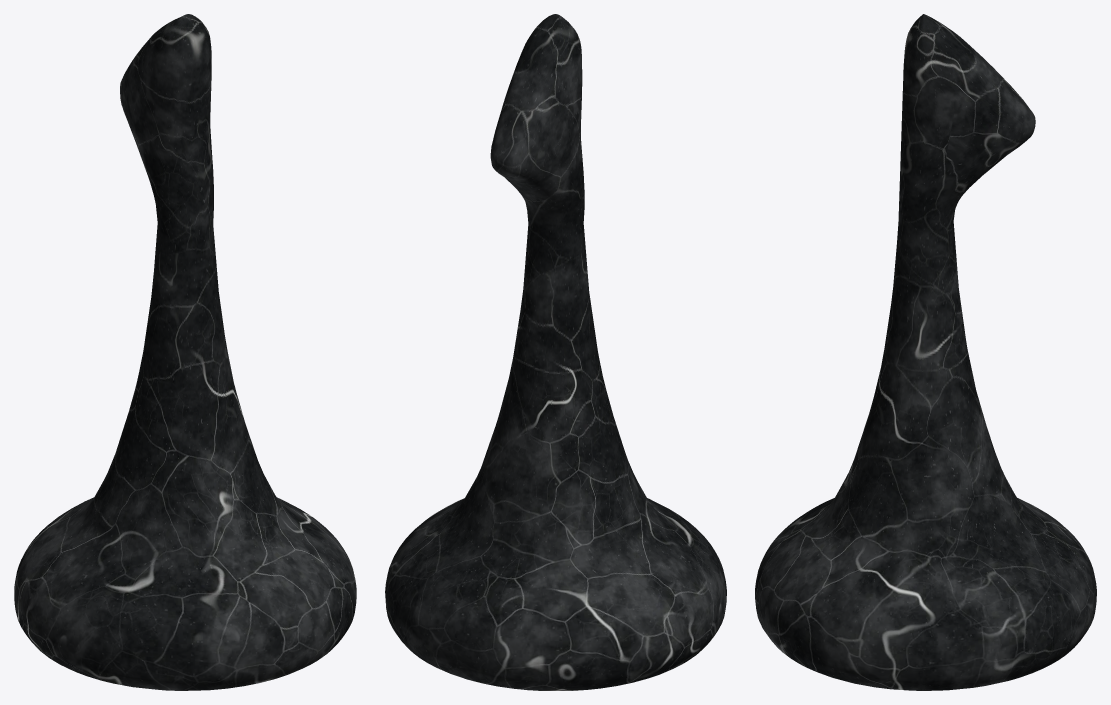
Rendered from knight-black.glb.
3 renders of one model, left to right at view 1: azimuth 30°, elevation 25°; view 2: azimuth 150°, elevation 25°; view 3: azimuth 270°, elevation 25°, orthographic.
Parts seen in each view (by area): view 1: Serpentina_knight_black; view 2: Serpentina_knight_black; view 3: Serpentina_knight_black.
Part boxes in pixels (box(x1,y1,x2,y2)): Serpentina_knight_black: box(14, 14, 356, 690); Serpentina_knight_black: box(385, 14, 726, 690); Serpentina_knight_black: box(755, 14, 1096, 690).
Bounding box in the file's own units: 0.6901 × 1.36 × 0.6897.
1 material, 1 textured.
